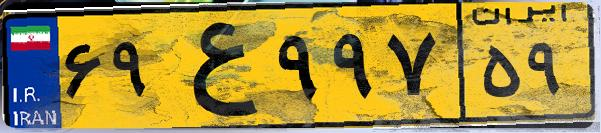5: (475, 38, 525, 113)
6: (57, 26, 110, 100)
7: (385, 28, 445, 110)
9: (270, 28, 330, 110), (330, 28, 385, 110), (525, 38, 570, 115), (110, 28, 158, 98)
ع: (158, 12, 270, 120)
